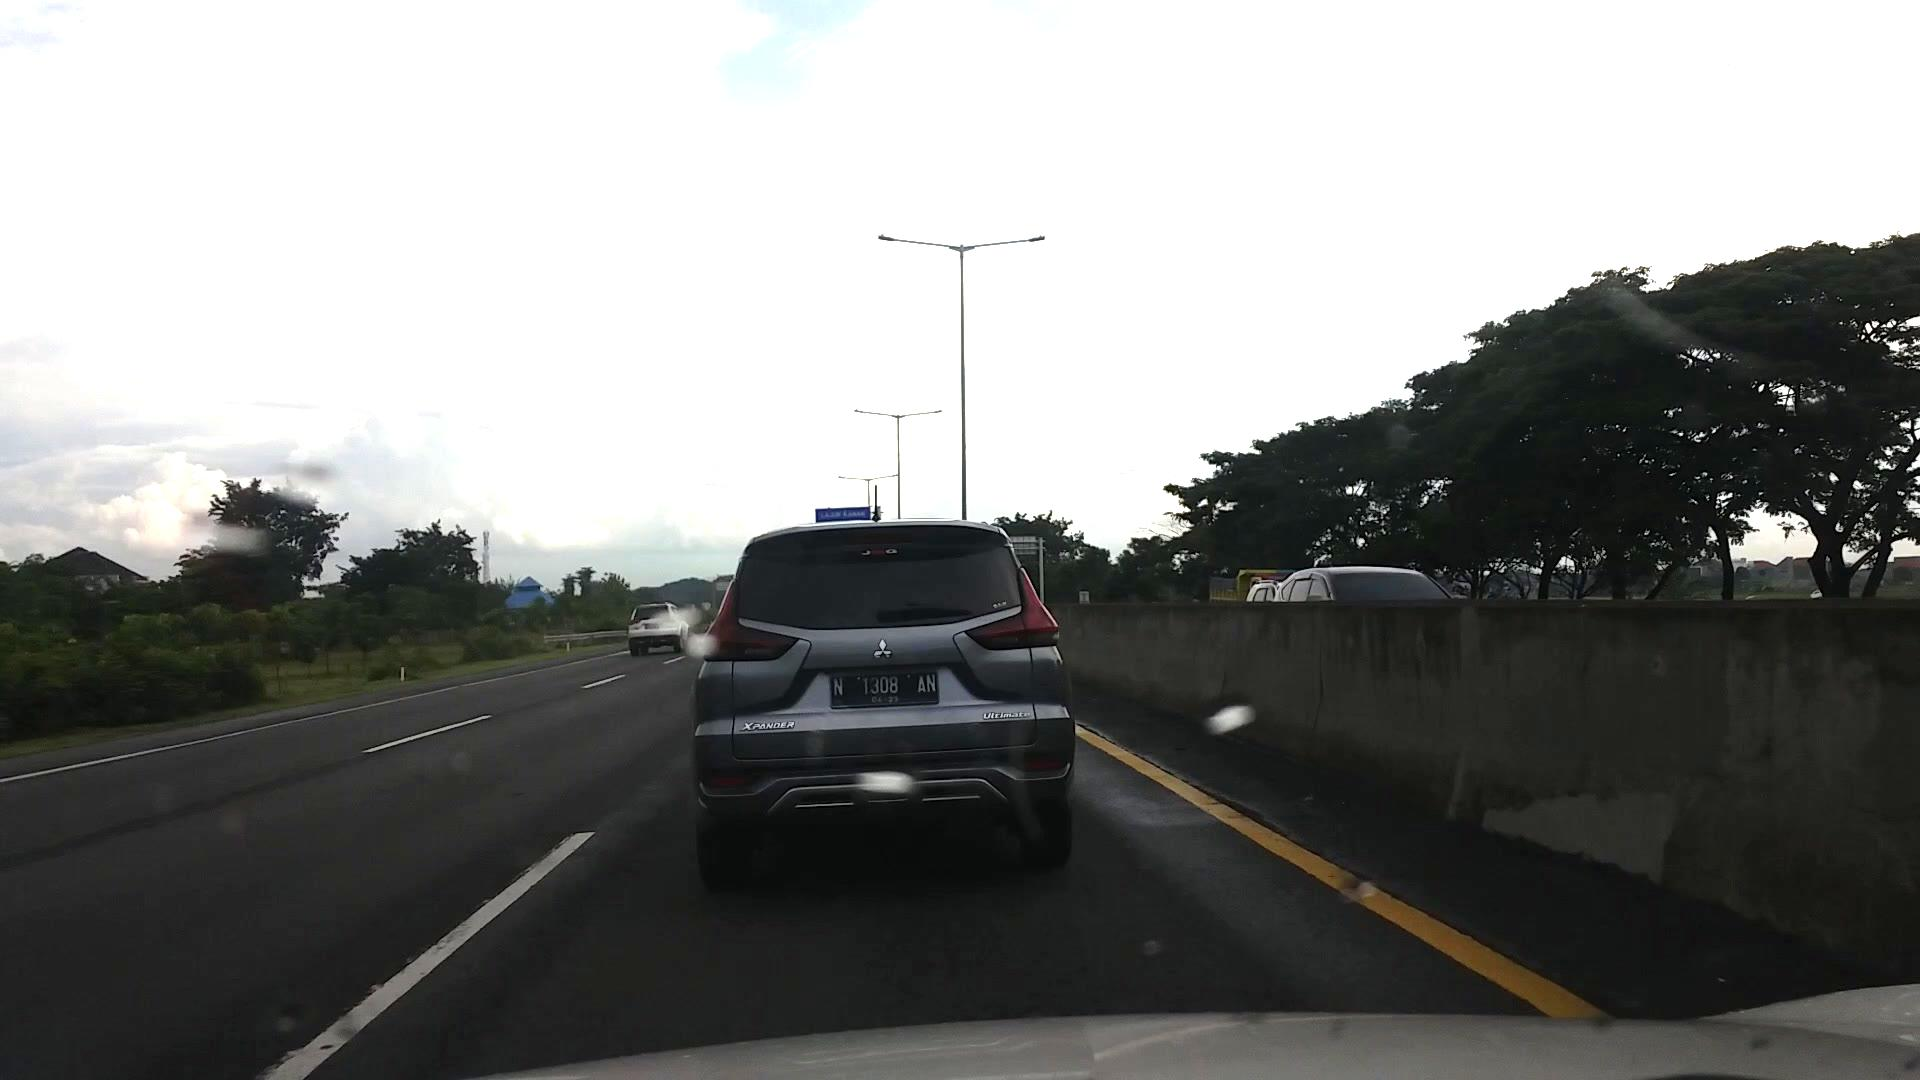plate_positive: (829, 670, 940, 708)
